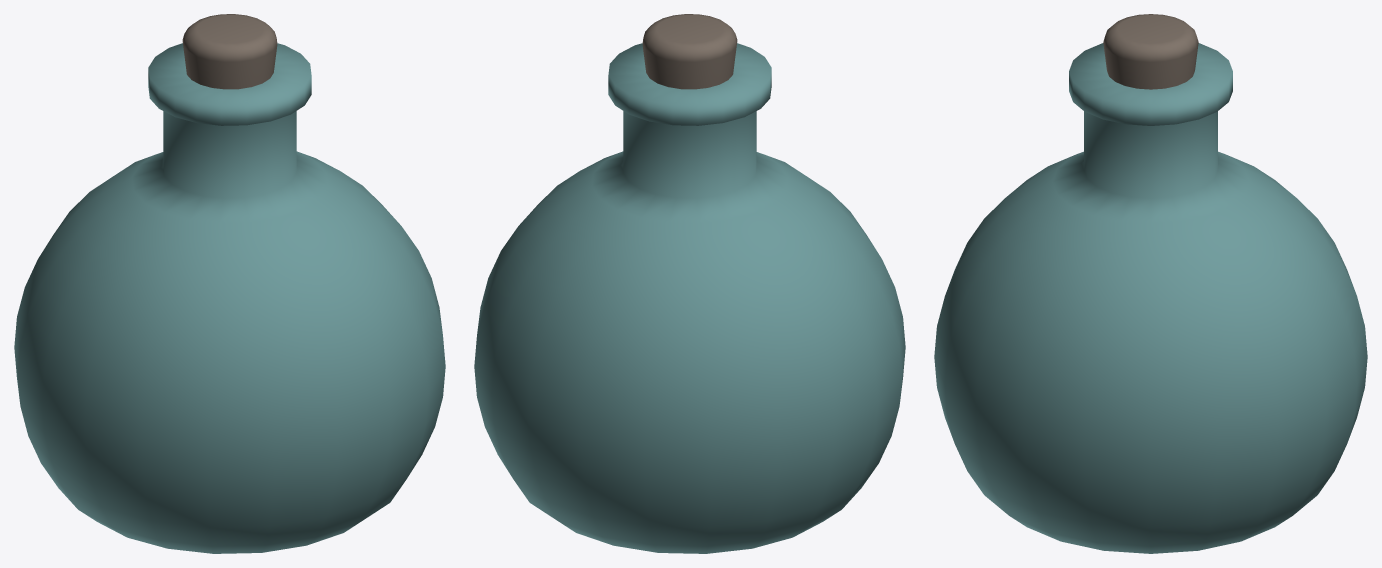
File: Potion1.fbx
The picture shows the model from 3 angles, left to right: view 1: azimuth 30°, elevation 25°; view 2: azimuth 150°, elevation 25°; view 3: azimuth 270°, elevation 25°; orthographic projection.
Visible parts, largest first — view 1: Glass1, Plug; view 2: Glass1, Plug; view 3: Glass1, Plug.
Boxes of the visible parts, box(x1,y1,x2,y2) form: Glass1: box(14, 43, 445, 553); Plug: box(182, 14, 277, 89); Glass1: box(474, 43, 905, 553); Plug: box(642, 14, 737, 89); Glass1: box(934, 43, 1367, 553); Plug: box(1103, 14, 1198, 89).
Bounding box in the file's own units: 4.6 × 5.49 × 4.6.
